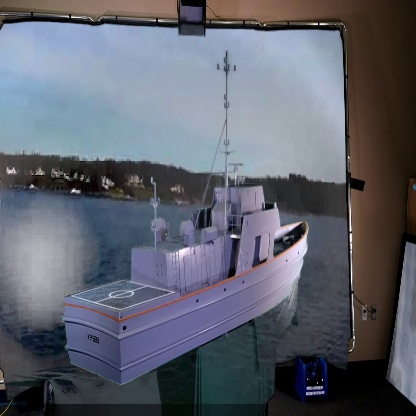YP689: (61, 51, 312, 386)
